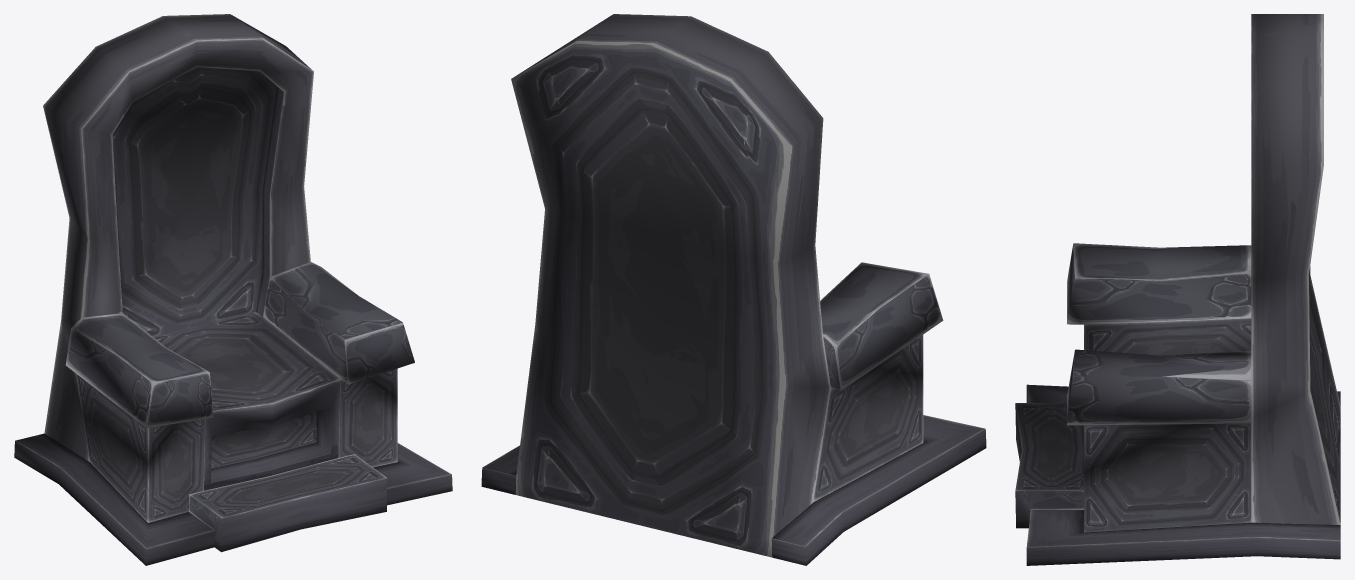
File: devilseart.fbx
The picture shows the model from 3 angles, left to right: view 1: azimuth 30°, elevation 25°; view 2: azimuth 150°, elevation 25°; view 3: azimuth 270°, elevation 25°; orthographic projection. The views are drawn at different scales.
Visible parts, largest first — view 1: SM_PROP_throne_dungeon_01.002; view 2: SM_PROP_throne_dungeon_01.002; view 3: SM_PROP_throne_dungeon_01.002.
Part boxes in pixels (left/top/right/bottom): SM_PROP_throne_dungeon_01.002: left=14, top=14, right=452, bottom=565; SM_PROP_throne_dungeon_01.002: left=481, top=14, right=986, bottom=565; SM_PROP_throne_dungeon_01.002: left=1015, top=14, right=1340, bottom=565.
Size of the model in its own units: 1.87 by 2.4 by 1.57.
1 material, 1 textured.
